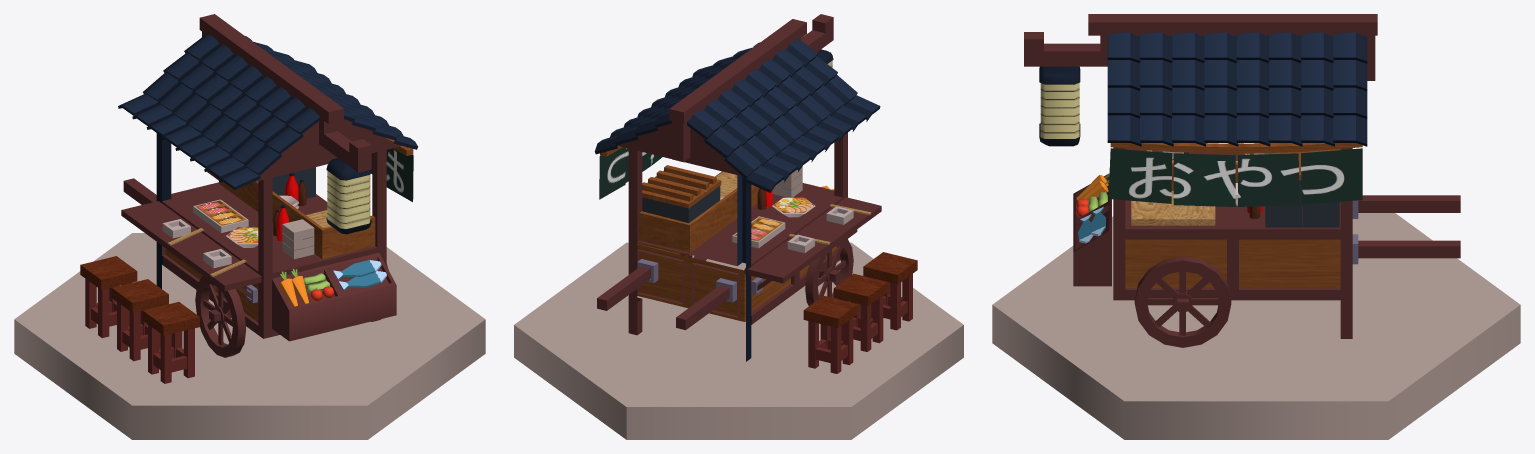
File: HouseOyatsu.fbx
The picture shows the model from 3 angles, left to right: view 1: azimuth 30°, elevation 25°; view 2: azimuth 150°, elevation 25°; view 3: azimuth 270°, elevation 25°; orthographic projection. The views are drawn at different scales.
Parts seen in each view (by area): view 1: HouseOyatsu; view 2: HouseOyatsu; view 3: HouseOyatsu.
Boxes of the visible parts, x1,y1,x2,y2 form: HouseOyatsu: [14, 14, 485, 439]; HouseOyatsu: [514, 14, 963, 439]; HouseOyatsu: [992, 14, 1520, 439].
Bounding box in the file's own units: 221 × 176 × 255.
1 material, 1 textured.
